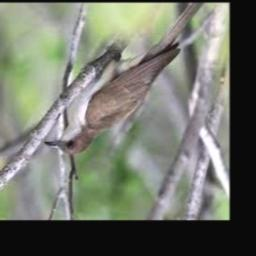Cuckoo: (43, 3, 204, 154)
